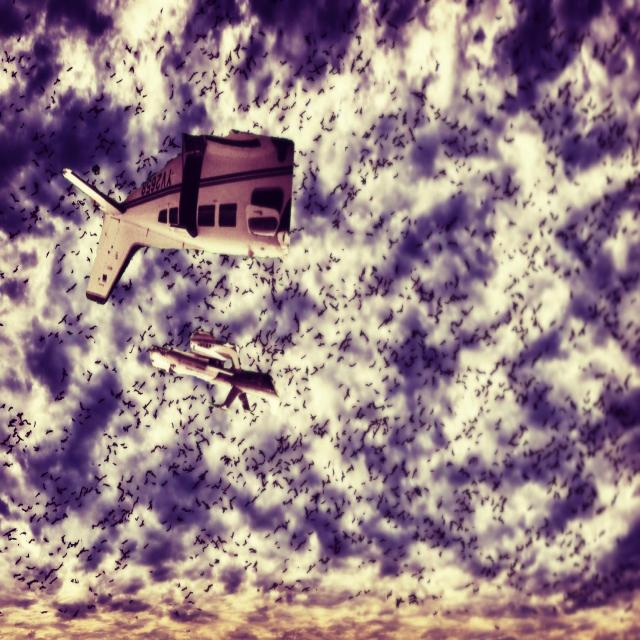airplane: (62, 129, 294, 305), (147, 326, 279, 411)
